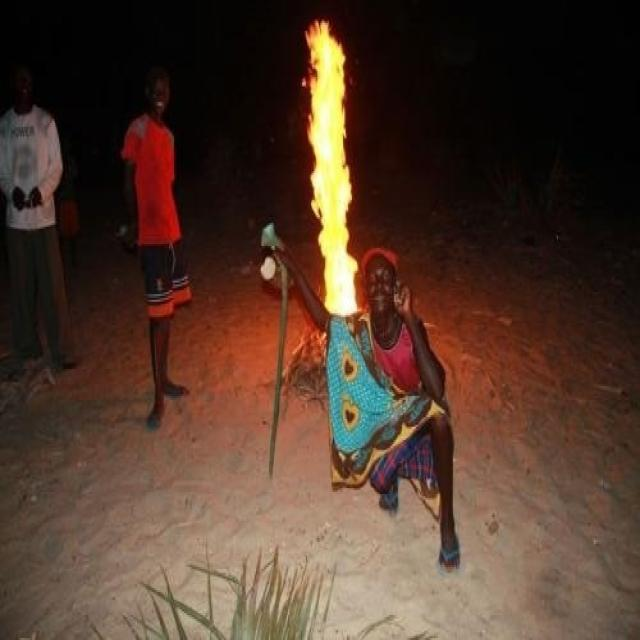Fire: (299, 17, 361, 317)
